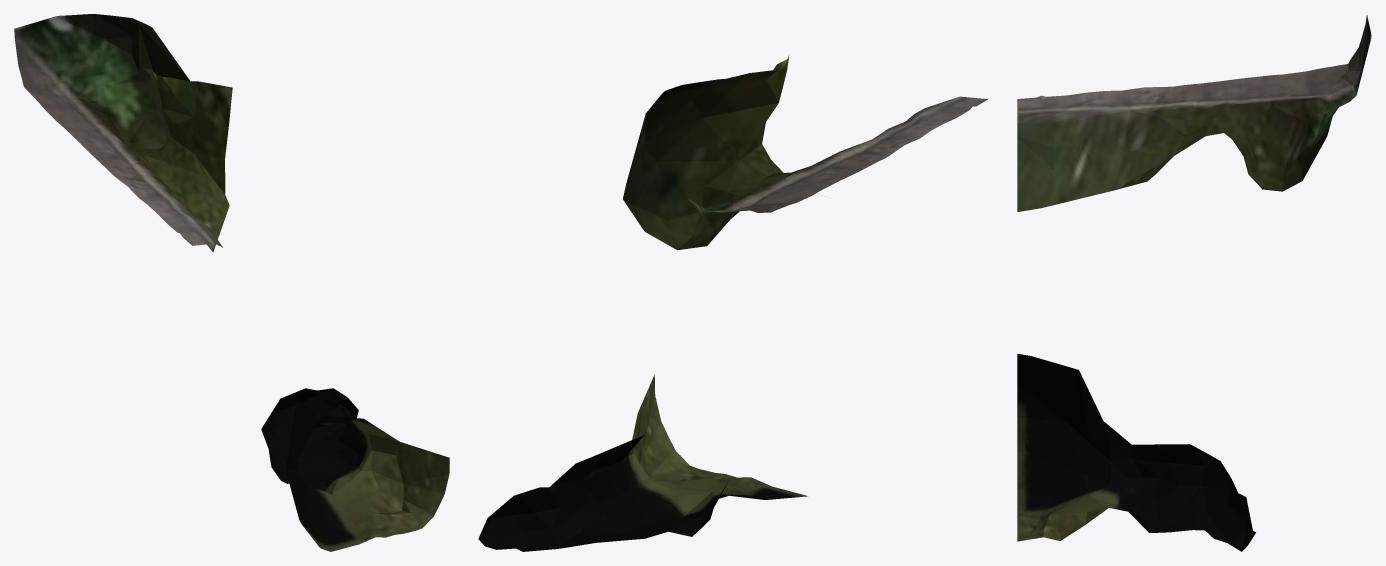
3 renders of one model, left to right at view 1: azimuth 30°, elevation 25°; view 2: azimuth 150°, elevation 25°; view 3: azimuth 270°, elevation 25°, orthographic. The views are drawn at different scales.
Bounding box in the file's own units: 2.79 × 4.12 × 3.16.
1 material, 1 textured.
